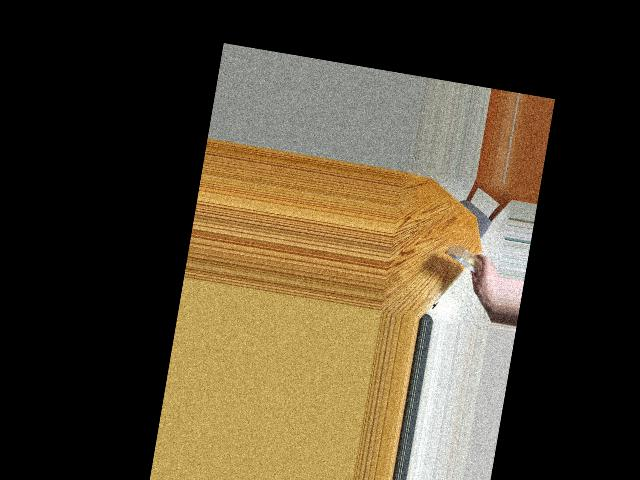cheese: (440, 242, 490, 275)
